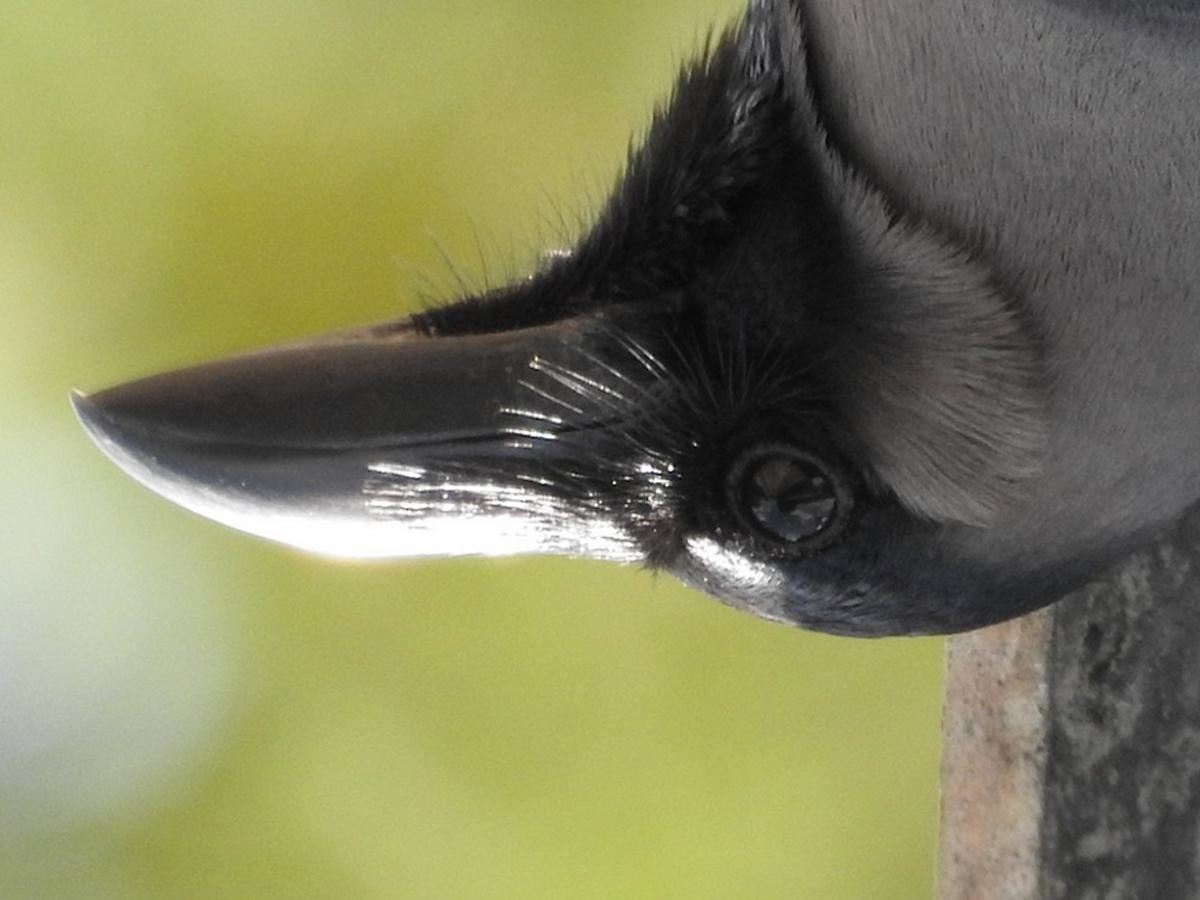crow: (58, 1, 1200, 646)
